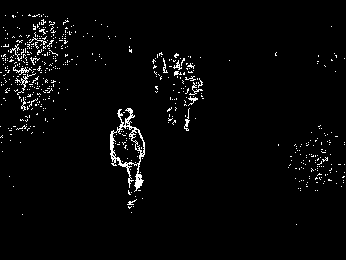person: (109, 105, 147, 210)
